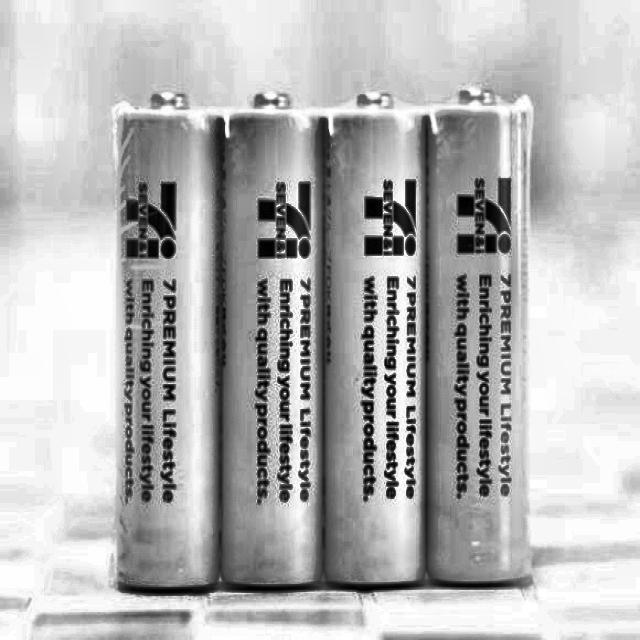drycell: (111, 86, 222, 597), (219, 91, 325, 595)
